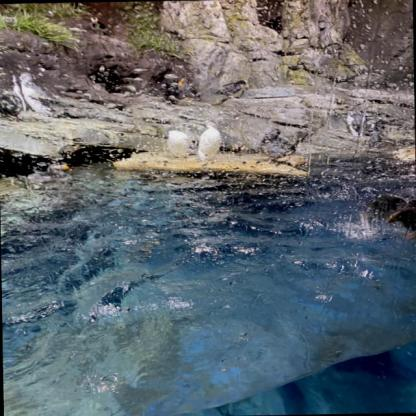puffin: (366, 188, 416, 241), (9, 70, 61, 117), (258, 127, 298, 167), (193, 118, 226, 166), (23, 160, 74, 188), (164, 123, 199, 163), (212, 78, 253, 102), (170, 74, 200, 104), (343, 108, 369, 138)
